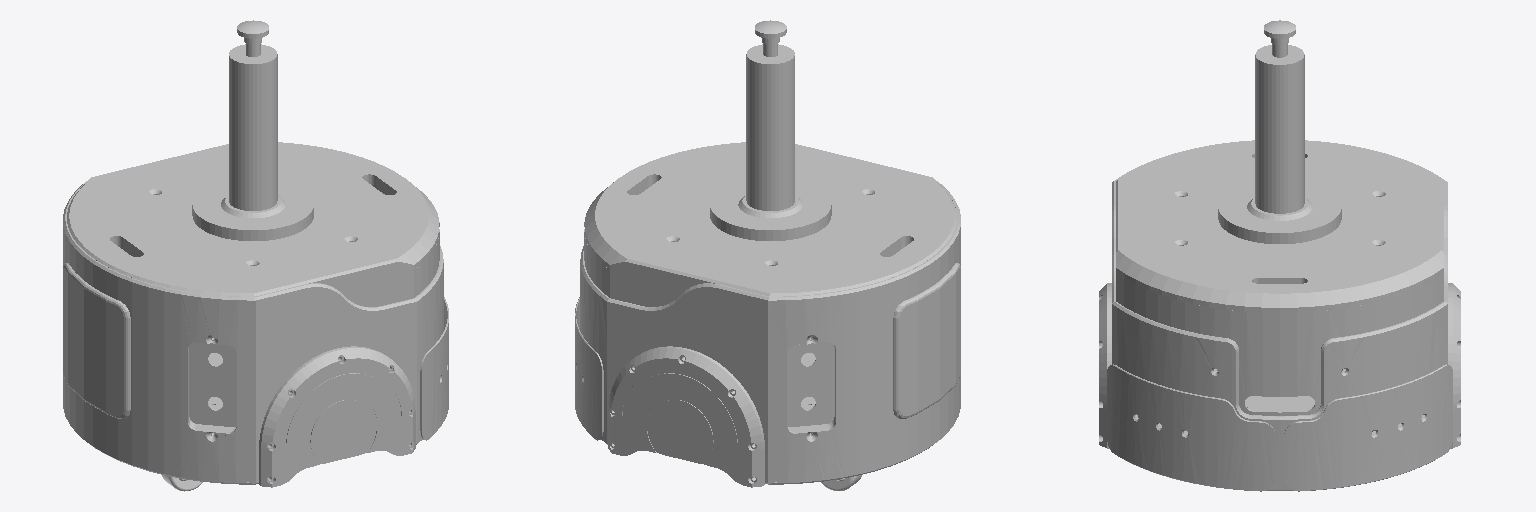
robot.urdf — amr_base:
<?xml version="1.0" ?>
<!-- =================================================================================== -->
<!-- |    This document was autogenerated by xacro from amr_base.xacro                 | -->
<!-- |    EDITING THIS FILE BY HAND IS NOT RECOMMENDED                                 | -->
<!-- =================================================================================== -->
<robot name="amr_base">
  <!--************* ROBOT'S FOOTPRINT **************-->
  <link name="base_footprint"/>
  <joint name="base_to_base" type="fixed">
    <parent link="base_footprint"/>
    <child link="base_link"/>
    <origin rpy="0 0 0" xyz="0 0 0"/>
  </joint>
  <!--************* ROBOT'S BASE **************-->
  <link name="base_link">
    <visual>
      <geometry>
        <mesh filename="package://amr_desc/meshes/amr_base.dae"/>
      </geometry>
      <origin rpy="0 0 1.5707963267948966" xyz="0 0 0.033"/>
      <material name="metal">
        <color rgba="0.8 0.8 0.8 1"/>
      </material>
    </visual>
    <collision>
      <origin rpy="0 0 0" xyz="0 0 0.1625"/>
      <geometry>
        <cylinder length="0.255" radius="0.23"/>
      </geometry>
    </collision>
    <inertial>
      <origin rpy="1.5707963267948966 0 0" xyz="0 0 0"/>
      <mass value="40000.0"/>
      <inertia ixx="745.7500000000001" ixy="0" ixz="0" iyy="745.7500000000001" iyz="0" izz="1058.0"/>
    </inertial>
  </link>
  <link name="lwheel_link">
    <visual>
      <origin rpy="1.5707963267948966 0 0" xyz="0 0 0"/>
      <geometry>
        <mesh filename="package://amr_desc/meshes/amr_wheel.dae"/>
      </geometry>
      <material name="black">
        <color rgba="0 0 0 1"/>
      </material>
    </visual>
    <collision>
      <origin rpy="0 0 0" xyz="0 0 0"/>
      <geometry>
        <cylinder length="0.0435" radius="0.0825"/>
      </geometry>
    </collision>
  </link>
  <joint name="lwheel_joint" type="revolute">
    <parent link="base_link"/>
    <child link="lwheel_link"/>
    <origin rpy="-1.5707963267948966 0 0" xyz="0 0.1825 0.0825"/>
    <limit effort="30" lower="-3.1415" upper="3.1415" velocity="5.0"/>
    <axis xyz="0 0 1"/>
  </joint>
  <link name="rwheel_link">
    <visual>
      <origin rpy="1.5707963267948966 0 0" xyz="0 0 0"/>
      <geometry>
        <mesh filename="package://amr_desc/meshes/amr_wheel.dae"/>
      </geometry>
      <material name="black">
        <color rgba="0 0 0 1"/>
      </material>
    </visual>
    <collision>
      <origin rpy="0 0 0" xyz="0 0 0"/>
      <geometry>
        <cylinder length="0.0435" radius="0.0825"/>
      </geometry>
    </collision>
  </link>
  <joint name="rwheel_joint" type="revolute">
    <parent link="base_link"/>
    <child link="rwheel_link"/>
    <origin rpy="1.5707963267948966 0 0" xyz="0 -0.1825 0.0825"/>
    <limit effort="30" lower="-3.1415" upper="3.1415" velocity="5.0"/>
    <axis xyz="0 0 -1"/>
  </joint>
  <link name="fcaster_link">
    <visual>
      <geometry>
        <mesh filename="package://amr_desc/meshes/amr_caster.dae"/>
      </geometry>
      <origin rpy="0 0 1.5707963267948966" xyz="0 0 0"/>
      <material name="white">
        <color rgba="1 1 1 1"/>
      </material>
    </visual>
    <collision>
      <origin rpy="0 0 0" xyz="0 0 0.04125"/>
      <geometry>
        <sphere radius="0.054"/>
      </geometry>
    </collision>
    <inertial>
      <mass value="10.05"/>
      <inertia ixx="0.01172232" ixy="0.0" ixz="0.0" iyy="0.01172232" iyz="0.0" izz="0.01172232"/>
    </inertial>
  </link>
  <joint name="fcaster_joint" type="fixed">
    <parent link="base_link"/>
    <child link="fcaster_link"/>
    <origin rpy="0 0 0" xyz="0.135 0 0"/>
  </joint>
  <link name="lcaster_link">
    <visual>
      <geometry>
        <mesh filename="package://amr_desc/meshes/amr_caster.dae"/>
      </geometry>
      <origin rpy="0 0 1.5707963267948966" xyz="0 0 0"/>
      <material name="white">
        <color rgba="1 1 1 1"/>
      </material>
    </visual>
    <collision>
      <origin rpy="0 0 0" xyz="0 0 0.04125"/>
      <geometry>
        <sphere radius="0.054"/>
      </geometry>
    </collision>
    <inertial>
      <mass value="10.05"/>
      <inertia ixx="0.01172232" ixy="0.0" ixz="0.0" iyy="0.01172232" iyz="0.0" izz="0.01172232"/>
    </inertial>
  </link>
  <joint name="lcaster_joint" type="fixed">
    <parent link="base_link"/>
    <child link="lcaster_link"/>
    <origin rpy="0 0 0" xyz="-0.135 0.105 0"/>
  </joint>
  <link name="rcaster_link">
    <visual>
      <geometry>
        <mesh filename="package://amr_desc/meshes/amr_caster.dae"/>
      </geometry>
      <origin rpy="0 0 1.5707963267948966" xyz="0 0 0"/>
      <material name="white">
        <color rgba="1 1 1 1"/>
      </material>
    </visual>
    <collision>
      <origin rpy="0 0 0" xyz="0 0 0.04125"/>
      <geometry>
        <sphere radius="0.054"/>
      </geometry>
    </collision>
    <inertial>
      <mass value="10.05"/>
      <inertia ixx="0.01172232" ixy="0.0" ixz="0.0" iyy="0.01172232" iyz="0.0" izz="0.01172232"/>
    </inertial>
  </link>
  <joint name="rcaster_joint" type="fixed">
    <parent link="base_link"/>
    <child link="rcaster_link"/>
    <origin rpy="0 0 0" xyz="-0.135 -0.105 0"/>
  </joint>
  <!--************* ROBOT'S LASER **************-->
  <link name="laser">
    <visual>
      <geometry>
        <cylinder length="0.04" radius="0.02"/>
      </geometry>
      <origin rpy="0 0 0" xyz="0 0 0.0"/>
      <material name="black">
        <color rgba="0 0 0 1"/>
      </material>
    </visual>
  </link>
  <joint name="base_to_scanner" type="fixed">
    <parent link="base_link"/>
    <child link="laser"/>
    <origin rpy="0 0 0" xyz="0.165 0 0.24"/>
  </joint>
  <!--************* ROBOT'S CAMERA **************-->
  <link name="camera_link">
    <visual>
      <geometry>
        <mesh filename="package://amr_desc/meshes/d435.dae"/>
      </geometry>
      <origin rpy="1.5707963267948966 0 1.5707963267948966" xyz="0 0 0"/>
      <material name="black">
        <color rgba="0 0 0 1"/>
      </material>
    </visual>
  </link>
  <joint name="base_to_camera" type="fixed">
    <parent link="base_link"/>
    <child link="camera_link"/>
    <origin rpy="0 0 0" xyz="0.23 0 0.15"/>
  </joint>
  <link name="imu_link"/>
  <joint name="imu_joint" type="fixed">
    <parent link="camera_link"/>
    <child link="imu_link"/>
    <origin rpy="0 0 0" xyz="0 0 0"/>
  </joint>
</robot>

--- Render facts (derived) ---
3 views of the same robot in one strip: view 1: azimuth 30°, elevation 25°; view 2: azimuth 150°, elevation 25°; view 3: azimuth 270°, elevation 25° (orthographic).
Model amr_base with 10 links and 9 joints (2 revolute, 7 fixed), rooted at base_footprint, posed all joints at 0.
Visible links, largest first — view 1: base_link; view 2: base_link; view 3: base_link.
Boxes of the visible links, <box> form: base_link: <box>63,20,448,487</box>; base_link: <box>575,20,960,487</box>; base_link: <box>1099,20,1460,491</box>.
Size in the robot's own frame: 0.4832 by 0.44 by 0.551 metres.
Meshes: 4 distinct files referenced, 4 mesh visuals loaded (2 Collada DAE); not drawn: 3 (reference not matched to a file when rendering).